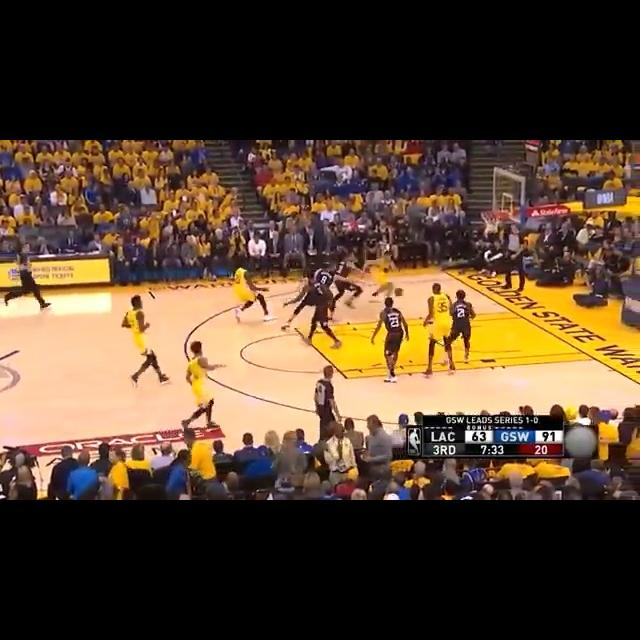basketball: (393, 286, 406, 298)
hoop: (479, 209, 509, 235)
